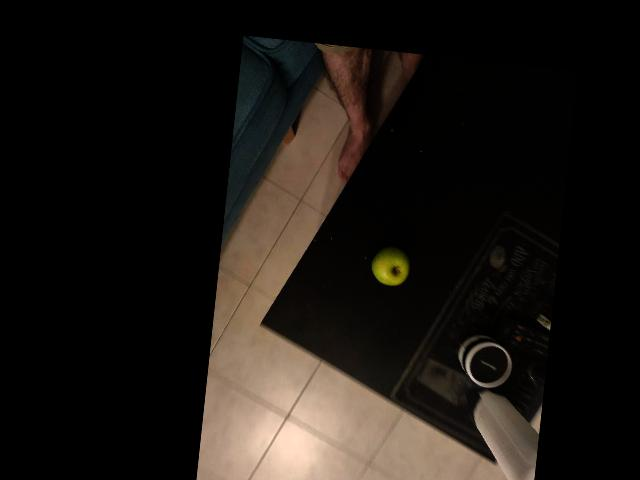apple: (278, 284, 341, 349)
